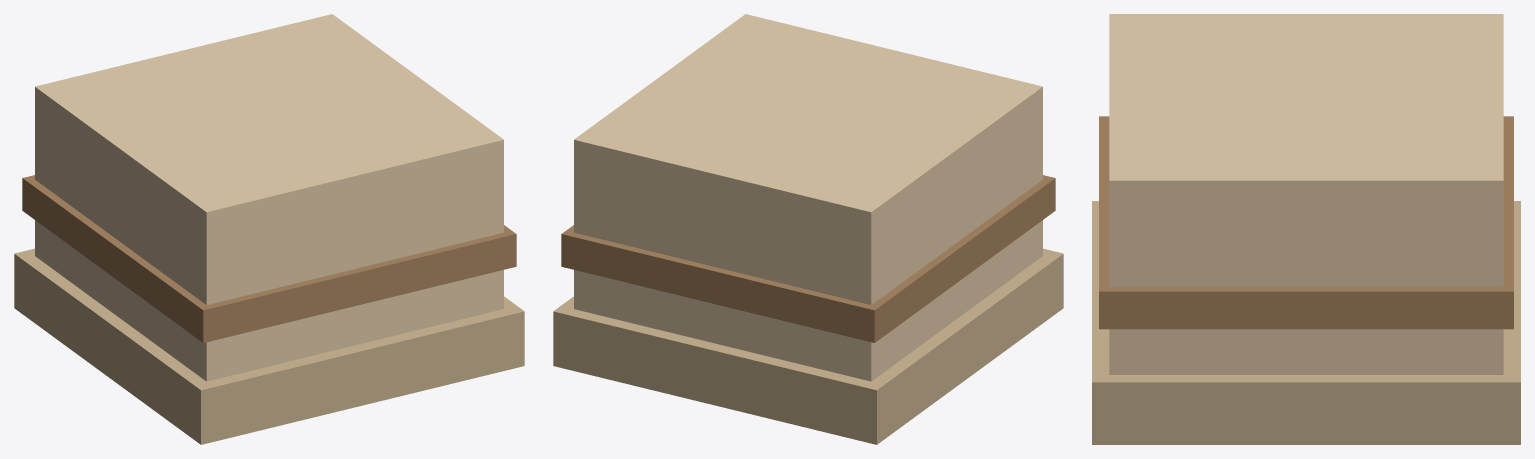
The model's file is detetive_manga_inf.glb.
3 views of the same model, side by side, from view 1: azimuth 30°, elevation 25°; view 2: azimuth 150°, elevation 25°; view 3: azimuth 270°, elevation 25° (orthographic). The views are drawn at different scales.
Visible parts, largest first — view 1: detetive_manga_inf; view 2: detetive_manga_inf; view 3: detetive_manga_inf.
Boxes of the visible parts, <box> form: detetive_manga_inf: <box>14,14,524,444</box>; detetive_manga_inf: <box>553,14,1063,444</box>; detetive_manga_inf: <box>1092,14,1520,444</box>.
Size of the model in its own units: 0.31 by 0.21 by 0.31.
